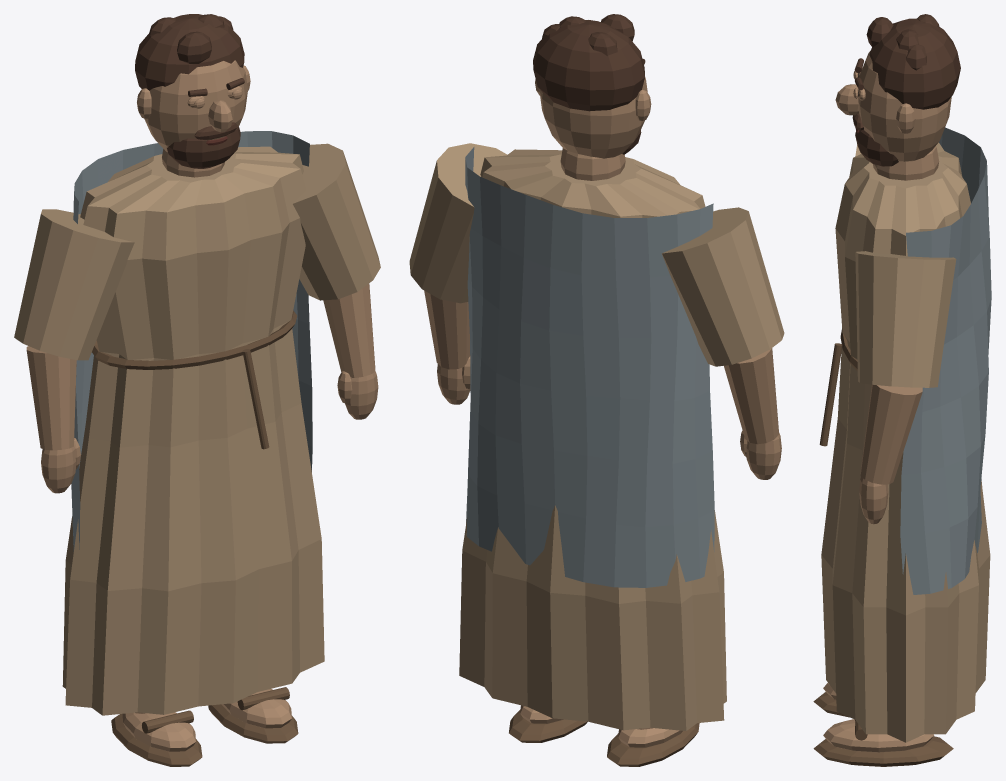
File: listener-ochre.glb
The picture shows the model from 3 angles, left to right: view 1: azimuth 30°, elevation 25°; view 2: azimuth 150°, elevation 25°; view 3: azimuth 270°, elevation 25°; orthographic projection. The views are drawn at different scales.
Parts seen in each view (by area): view 1: listener-ochre_torso_mesh, listener-ochre_head_mesh, listener-ochre_arm_left_mesh, listener-ochre_arm_right_mesh, listener-ochre_forearm_left_mesh, listener-ochre_forearm_right_mesh, listener-ochre_foot_left_mesh, listener-ochre_foot_right_mesh, listener-ochre_jaw_mesh; view 2: listener-ochre_torso_mesh, listener-ochre_head_mesh, listener-ochre_arm_left_mesh, listener-ochre_arm_right_mesh, listener-ochre_forearm_left_mesh, listener-ochre_forearm_right_mesh, listener-ochre_foot_left_mesh, listener-ochre_foot_right_mesh; view 3: listener-ochre_torso_mesh, listener-ochre_head_mesh, listener-ochre_arm_right_mesh, listener-ochre_forearm_right_mesh, listener-ochre_foot_right_mesh, listener-ochre_jaw_mesh, listener-ochre_foot_left_mesh.
Part boxes in pixels (x1,y1,x2,y2): listener-ochre_torso_mesh: (62, 131, 324, 715); listener-ochre_head_mesh: (135, 14, 250, 152); listener-ochre_arm_left_mesh: (14, 209, 134, 360); listener-ochre_arm_right_mesh: (293, 143, 380, 300); listener-ochre_forearm_left_mesh: (26, 346, 80, 493); listener-ochre_forearm_right_mesh: (323, 283, 378, 419); listener-ochre_foot_left_mesh: (111, 710, 202, 766); listener-ochre_foot_right_mesh: (208, 687, 298, 743); listener-ochre_jaw_mesh: (167, 127, 240, 168); listener-ochre_torso_mesh: (459, 147, 726, 730); listener-ochre_head_mesh: (533, 14, 651, 158); listener-ochre_arm_left_mesh: (662, 207, 784, 366); listener-ochre_arm_right_mesh: (409, 143, 507, 303); listener-ochre_forearm_left_mesh: (724, 348, 781, 479); listener-ochre_forearm_right_mesh: (424, 290, 470, 404); listener-ochre_foot_left_mesh: (607, 723, 699, 766); listener-ochre_foot_right_mesh: (509, 705, 587, 742); listener-ochre_torso_mesh: (819, 127, 991, 742); listener-ochre_head_mesh: (835, 14, 960, 161); listener-ochre_arm_right_mesh: (855, 251, 956, 387); listener-ochre_forearm_right_mesh: (859, 384, 922, 524); listener-ochre_foot_right_mesh: (813, 719, 953, 766); listener-ochre_jaw_mesh: (855, 129, 898, 166); listener-ochre_foot_left_mesh: (813, 683, 849, 717).
Size of the model in its own units: 0.9266 by 1.77 by 0.4009.
